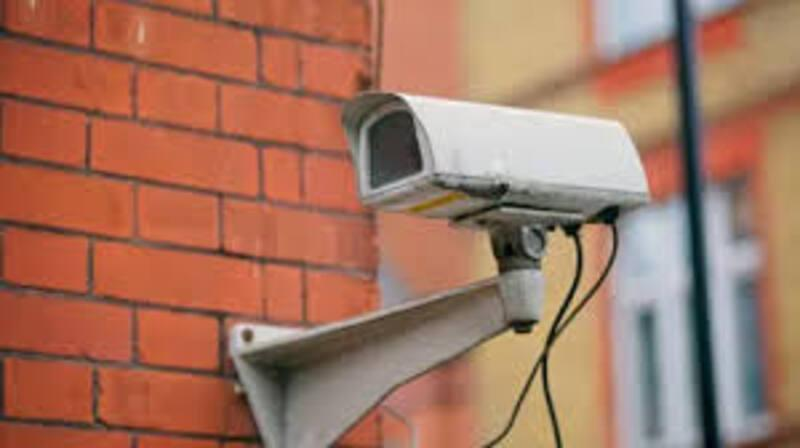box: (339, 87, 657, 237)
